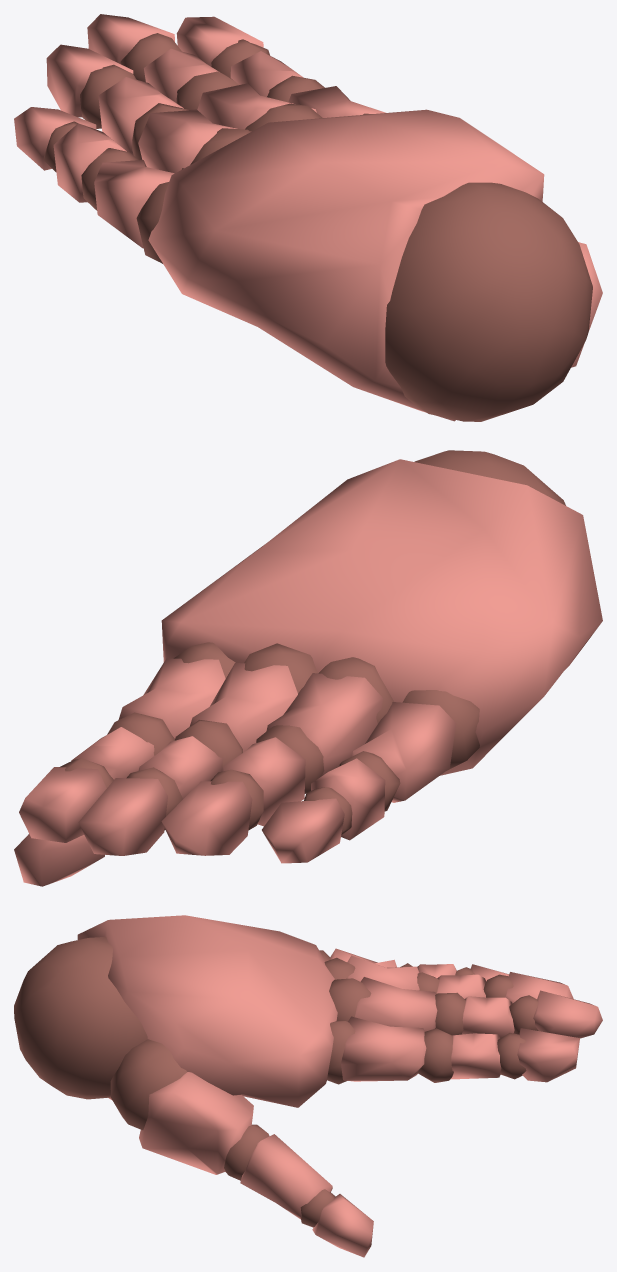
Rendered from mixamo-y-xr-left-hand.glb.
3 views of the same model, one above another, from view 1: azimuth 30°, elevation 25°; view 2: azimuth 150°, elevation 25°; view 3: azimuth 270°, elevation 25° (orthographic). The views are drawn at different scales.
Parts seen in each view (by area): view 1: left_hand; view 2: left_hand; view 3: left_hand.
Part boxes in pixels (x1,y1,x2,y2): left_hand: (14,14,602,421); left_hand: (14,450,602,886); left_hand: (14,915,602,1257).
Bounding box in the file's own units: 0.1272 × 0.0964 × 0.2199.
